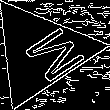M_SW: (4, 18, 78, 85)
